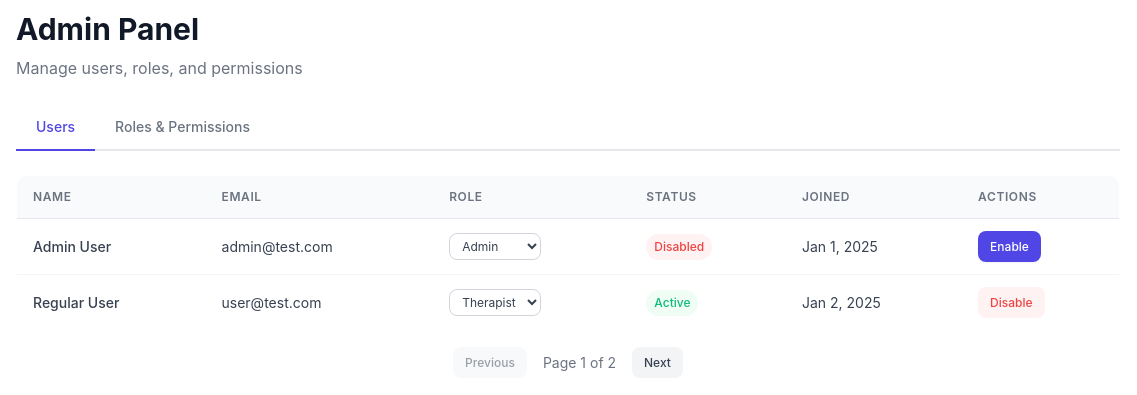
Test case: AdminView › loads another page of users from pagination
This screenshot has width=1137, height=395.
Click the button "Next".
click(657, 362)  # box [632, 347, 683, 378]
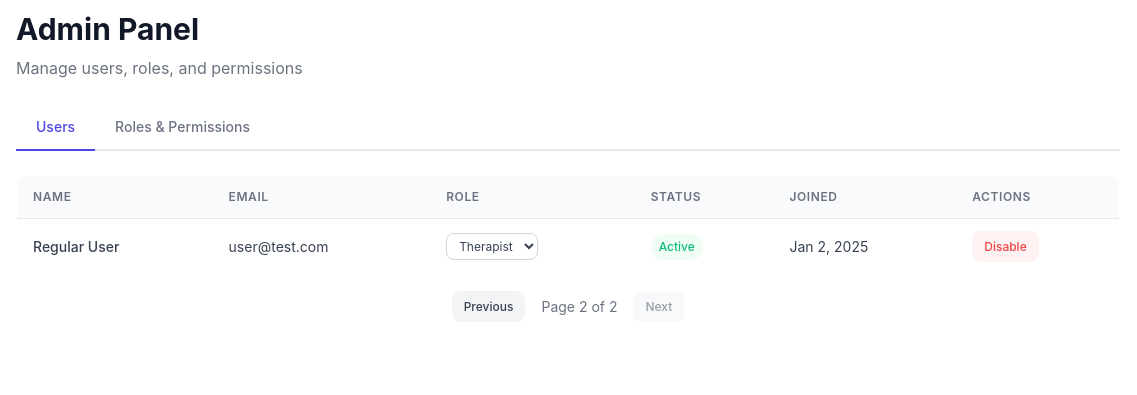
Expected: the text "Page 2 of 2" is shown, [542, 296, 618, 317]
